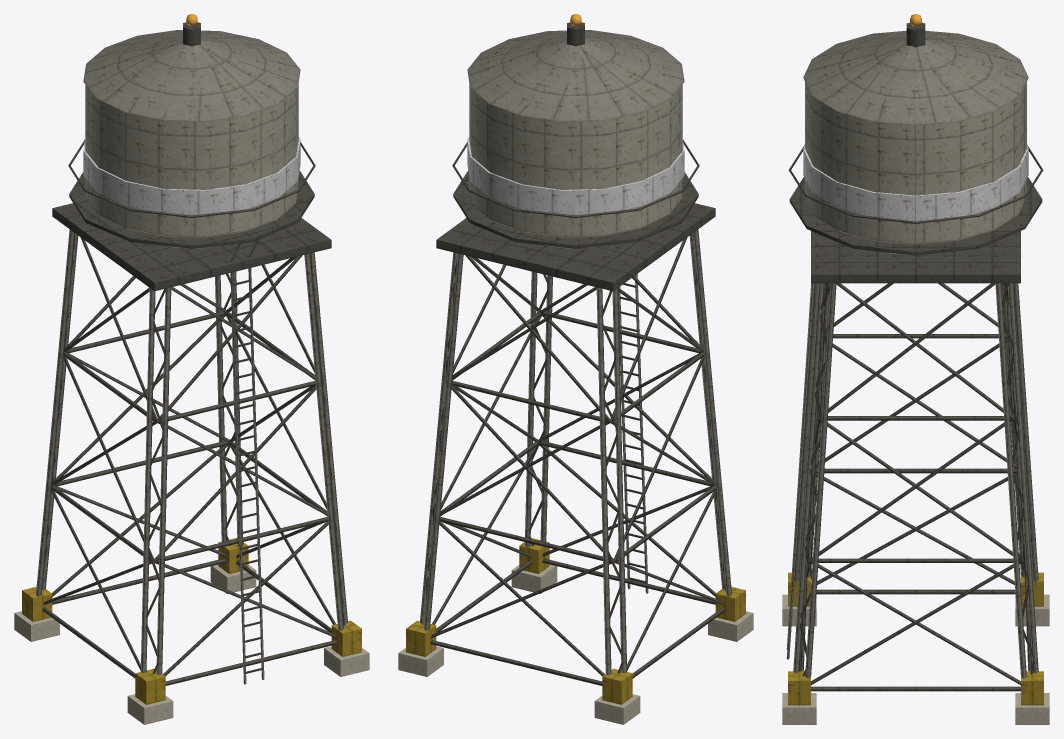
3 views of the same model, side by side, from view 1: azimuth 30°, elevation 25°; view 2: azimuth 150°, elevation 25°; view 3: azimuth 270°, elevation 25° (orthographic). The views are drawn at different scales.
Visible parts, largest first — view 1: site_water_tower_restored; view 2: site_water_tower_restored; view 3: site_water_tower_restored.
Part boxes in pixels (x1=…): site_water_tower_restored: x1=14, y1=14, x2=369, y2=724; site_water_tower_restored: x1=398, y1=14, x2=753, y2=724; site_water_tower_restored: x1=782, y1=14, x2=1049, y2=724.
Bounding box in the file's own units: 7 × 18.88 × 7.
7 materials, 7 textured.
